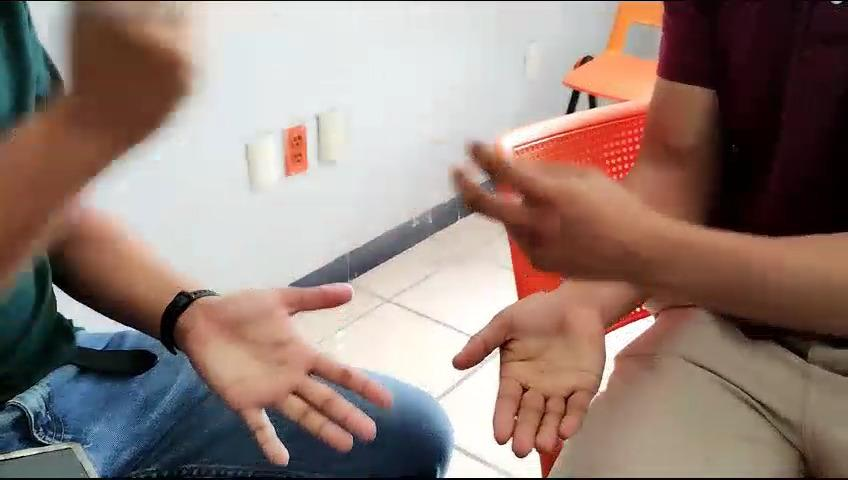Paper: (150, 262, 405, 480), (440, 288, 639, 464)
Scissor: (432, 126, 667, 301)
Stone: (34, 0, 209, 147)
